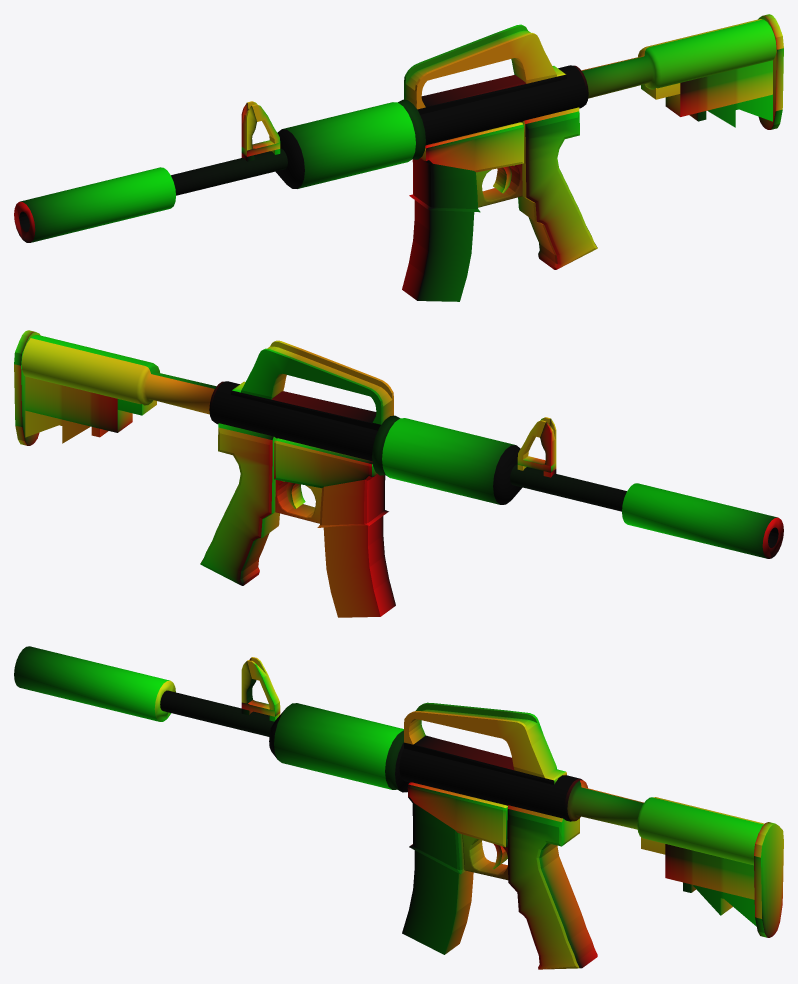
3 renders of one model, top to bottom at view 1: azimuth 30°, elevation 25°; view 2: azimuth 150°, elevation 25°; view 3: azimuth 330°, elevation 25°, orthographic.
Parts seen in each view (by area): view 1: CuerpoCilindro, Object001, Cargador; view 2: CuerpoCilindro, Object001, Cargador; view 3: CuerpoCilindro, Object001, Cargador.
Part boxes in pixels (x1,y1,x2,y2): CuerpoCilindro: (171, 14, 783, 269); Object001: (14, 167, 175, 242); Cargador: (402, 200, 474, 301); CuerpoCilindro: (14, 330, 626, 585); Object001: (622, 483, 783, 558); Cargador: (323, 516, 395, 617); CuerpoCilindro: (160, 657, 783, 969); Object001: (14, 646, 175, 721); Cargador: (402, 850, 473, 954).
Size of the model in its own units: 239 by 76.04 by 17.13.
